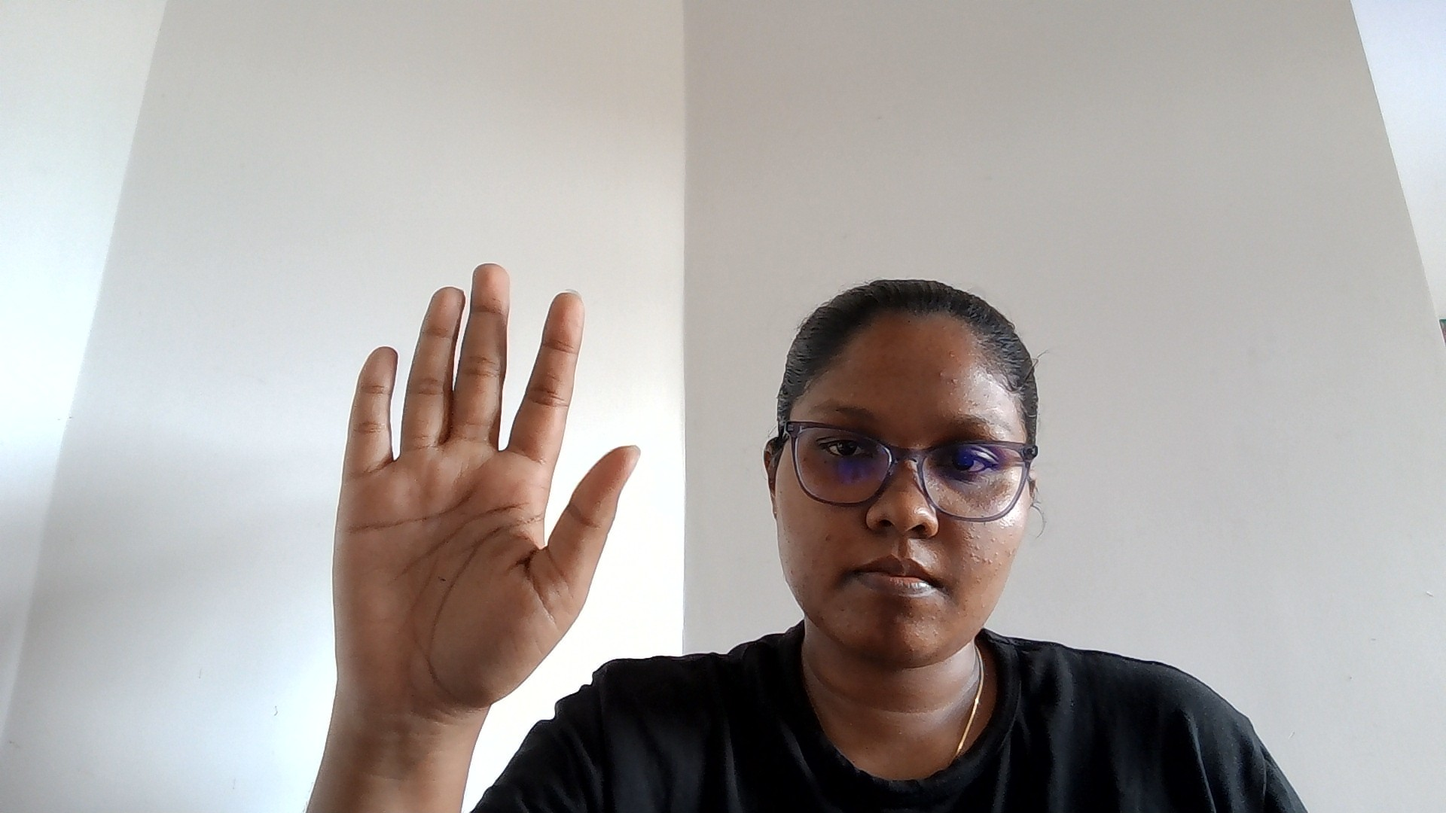Hello: (307, 215, 659, 689)
